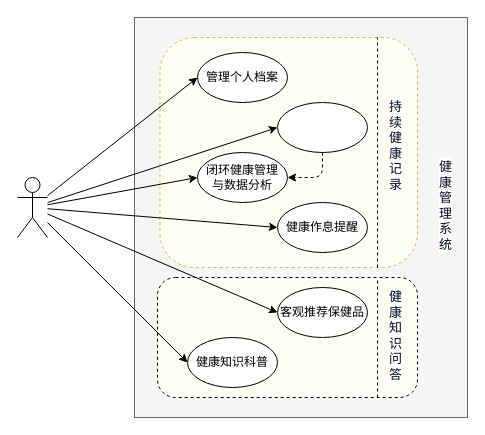
The diagram is 485 pixels wide and 435 high, and some of its shapes have lost their labels. The centre of each missing label's shape, as x and y in pixels:
"用户" goes at pixel 32 207.
"追踪长期 健康状况" goes at pixel 322 127.
